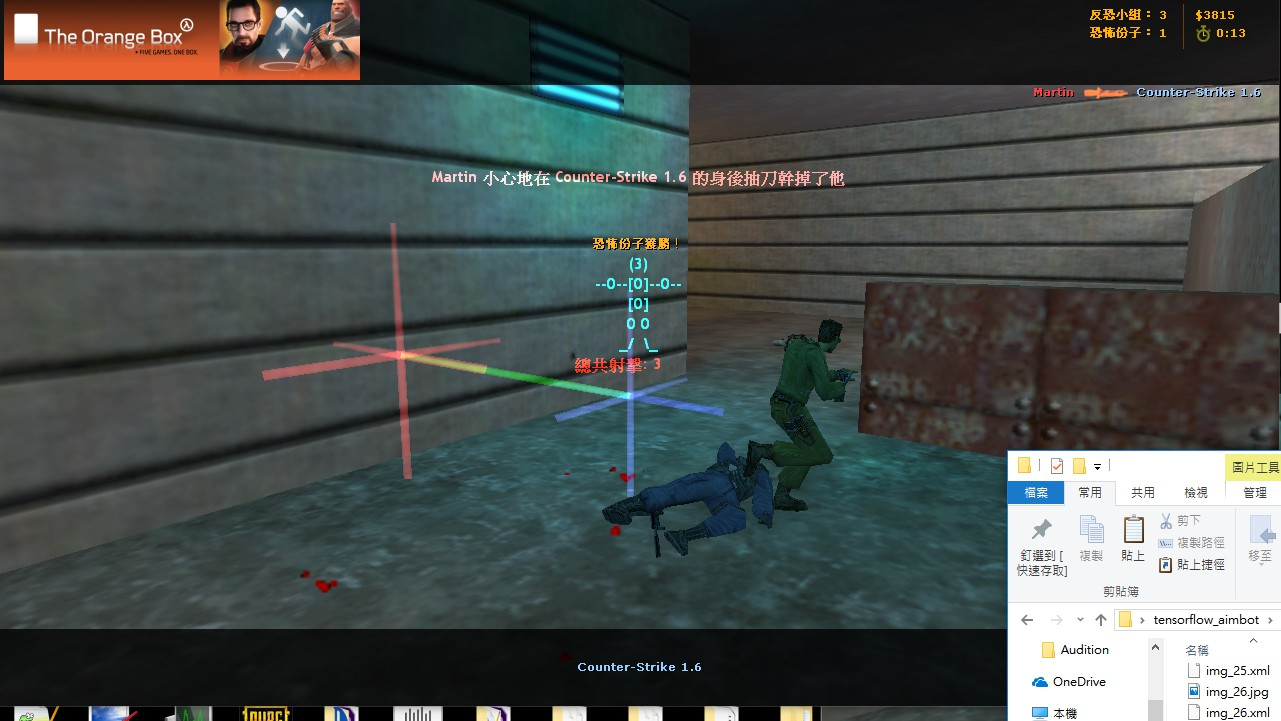person: (762, 313, 851, 527)
